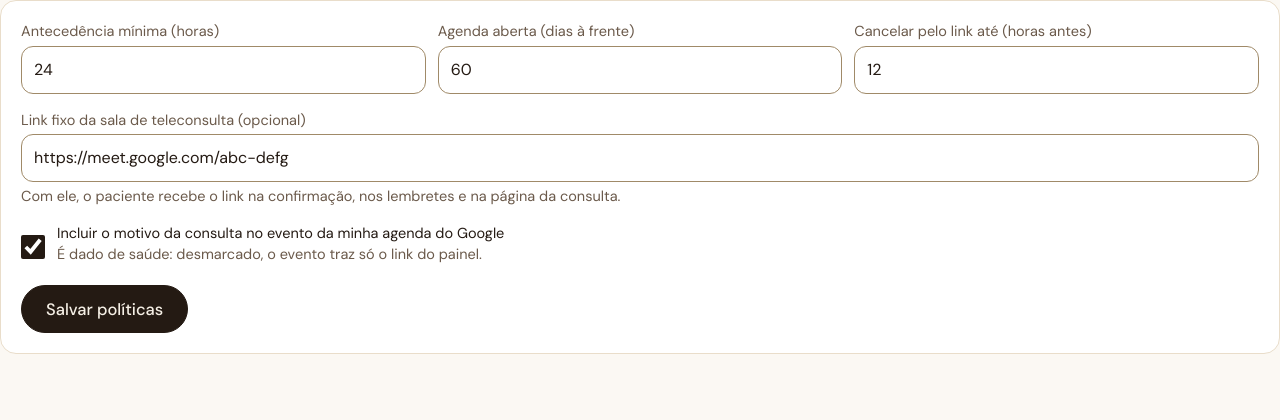
Test: <FormPoliticas> › mostra erro devolvido pela action
This screenshot has width=1280, height=420.
Click the button "Salvar políticas" at x=105, y=309, box [21, 285, 188, 333]
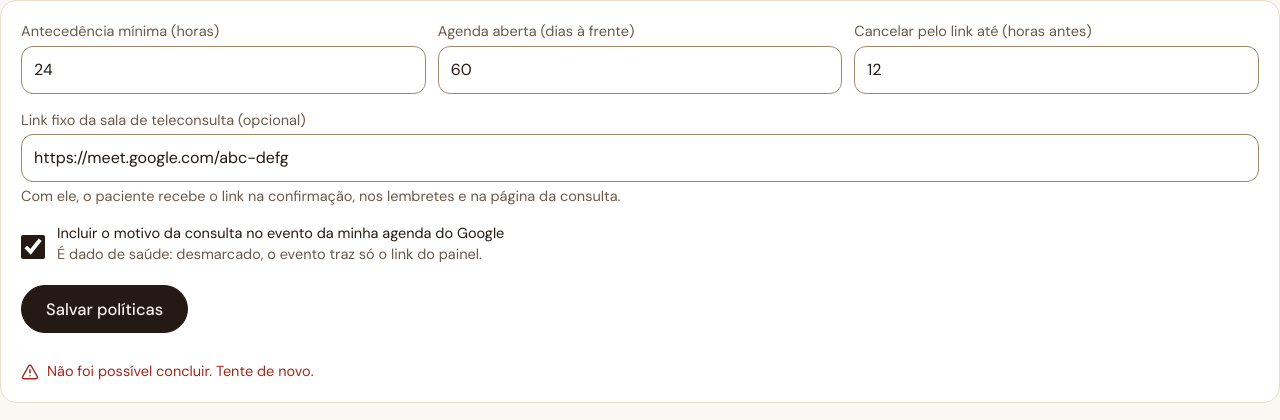
Expected: the message shows "Não foi possível concluir.", [47, 362, 314, 380]
